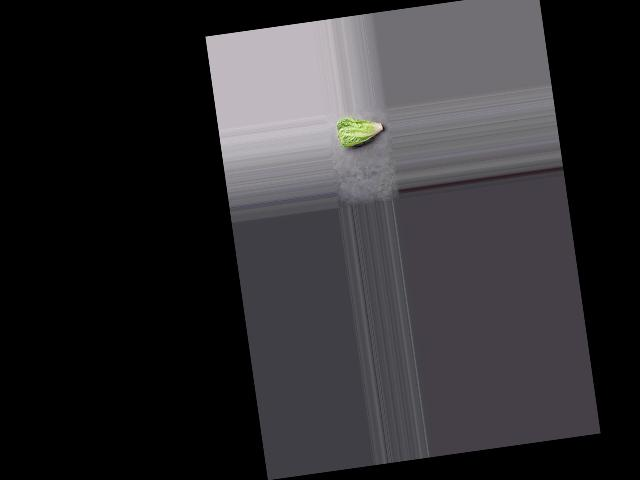lettuce: (335, 110, 388, 149)
